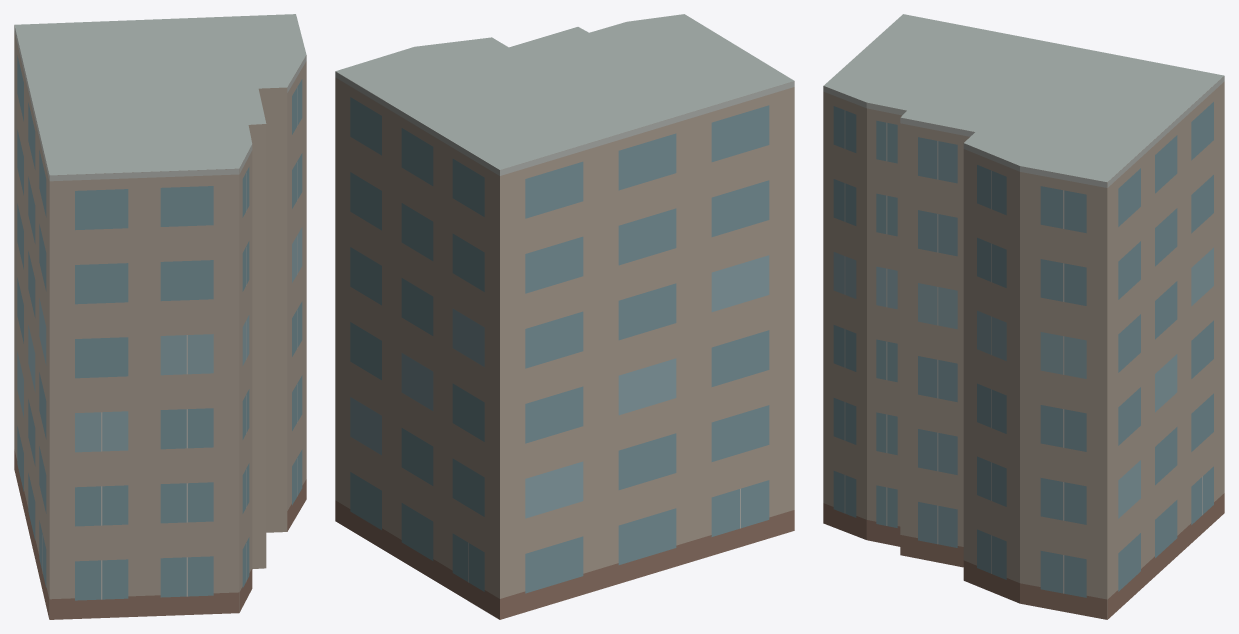
Rendered from survey-upis-32530362.glb.
The picture shows the model from 3 angles, left to right: view 1: azimuth 30°, elevation 25°; view 2: azimuth 150°, elevation 25°; view 3: azimuth 270°, elevation 25°; orthographic projection. The views are drawn at different scales.
Visible parts, largest first — view 1: survey-upis-32530362.tmp; view 2: survey-upis-32530362.tmp; view 3: survey-upis-32530362.tmp.
Boxes of the visible parts, bbox=[...] form: survey-upis-32530362.tmp: bbox=[14, 14, 306, 619]; survey-upis-32530362.tmp: bbox=[335, 14, 794, 619]; survey-upis-32530362.tmp: bbox=[823, 14, 1224, 619].
Size of the model in its own units: 15.19 by 18.4 by 15.29.
